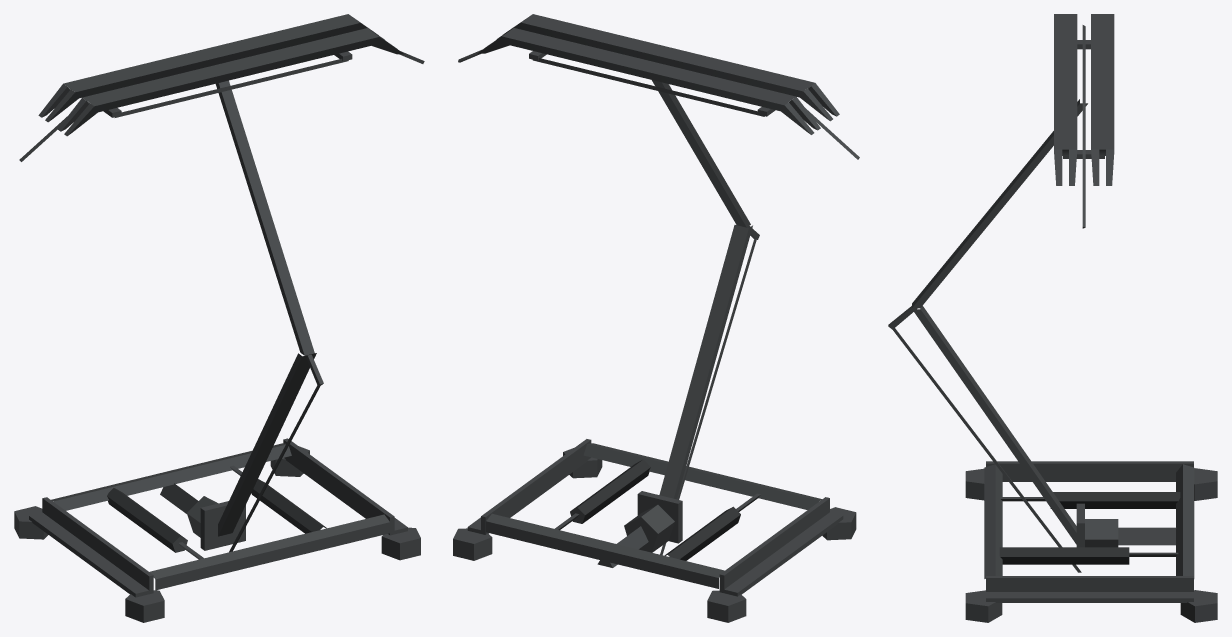
File: K800_PANTA00.glb
The picture shows the model from 3 angles, left to right: view 1: azimuth 30°, elevation 25°; view 2: azimuth 150°, elevation 25°; view 3: azimuth 270°, elevation 25°; orthographic projection. The views are drawn at different scales.
Parts seen in each view (by area): view 1: obj1; view 2: obj1; view 3: obj1.
Boxes of the visible parts, bbox=[...] form: obj1: bbox=[14, 14, 424, 622]; obj1: bbox=[453, 14, 859, 622]; obj1: bbox=[888, 14, 1217, 622].
Bounding box in the file's own units: 4.48 × 5.33 × 3.24.
1 material, 1 textured.
